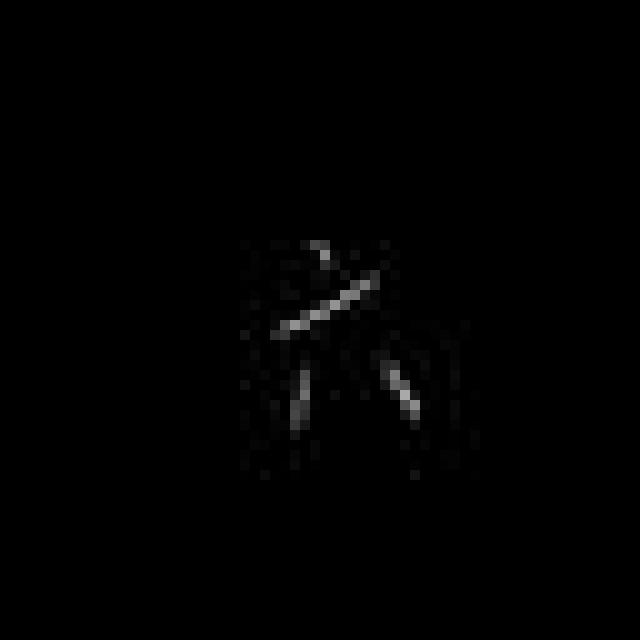6 -six-: (258, 226, 434, 447)
